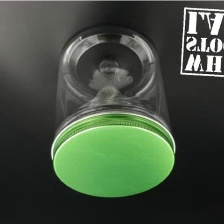plastic_box: (43, 16, 181, 203)
